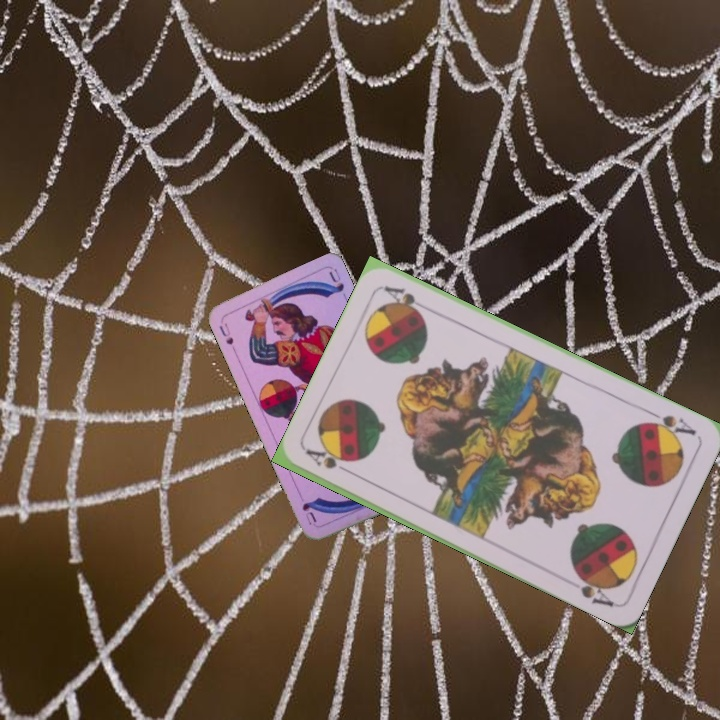SA: (640, 406, 699, 441), (302, 445, 358, 478)
SU: (215, 318, 239, 355)
